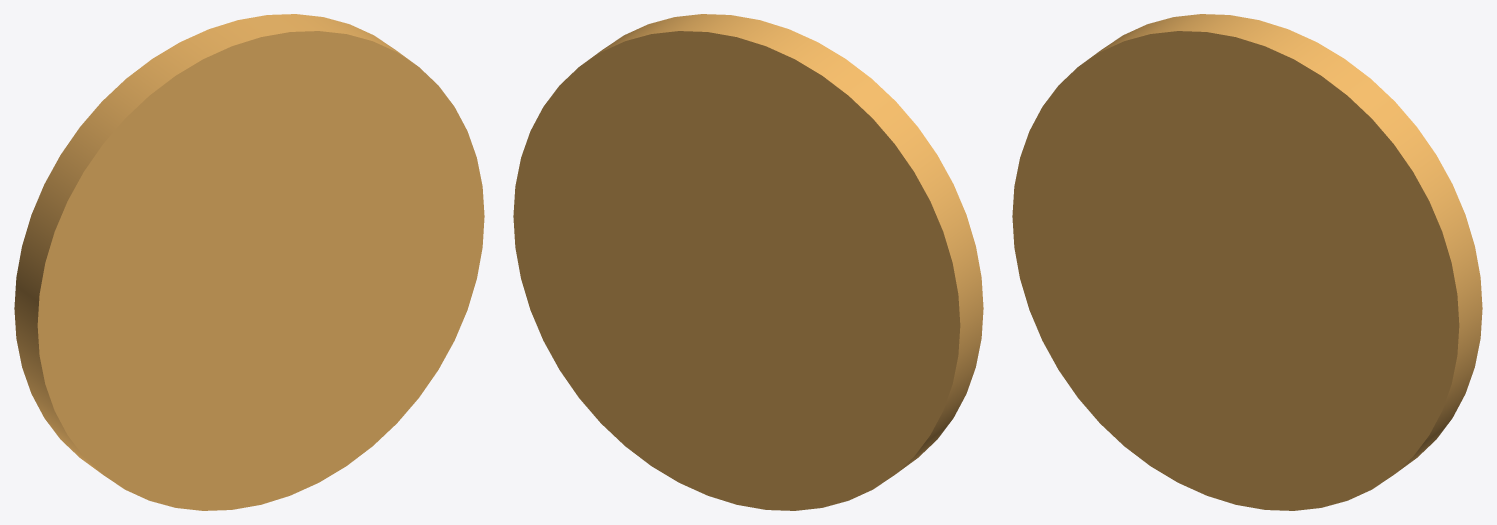
The model's file is badge_linguini.glb.
3 renders of one model, left to right at view 1: azimuth 30°, elevation 25°; view 2: azimuth 150°, elevation 25°; view 3: azimuth 330°, elevation 25°, orthographic.
Parts seen in each view (by area): view 1: badge; view 2: badge; view 3: badge.
Part boxes in pixels (box(x1,y1,x2,y2)): badge: box(14, 14, 484, 510); badge: box(513, 14, 983, 510); badge: box(1012, 14, 1482, 510).
Size of the model in its own units: 2 by 2 by 0.18.
